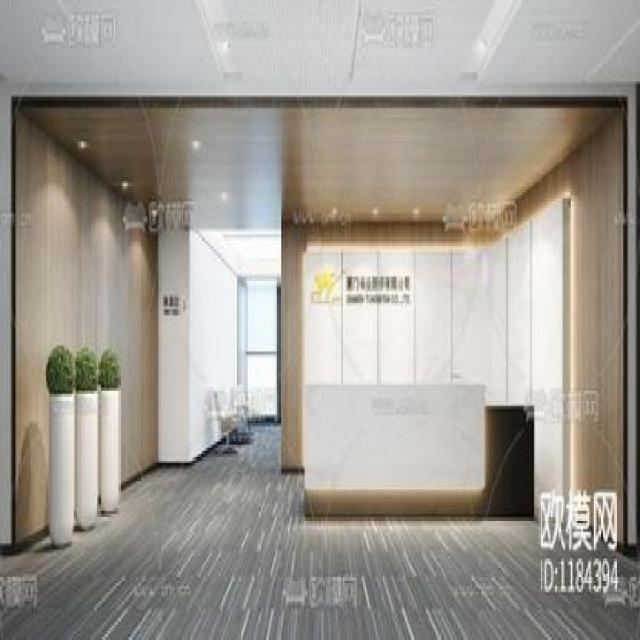frontdesk: (300, 372, 538, 530)
